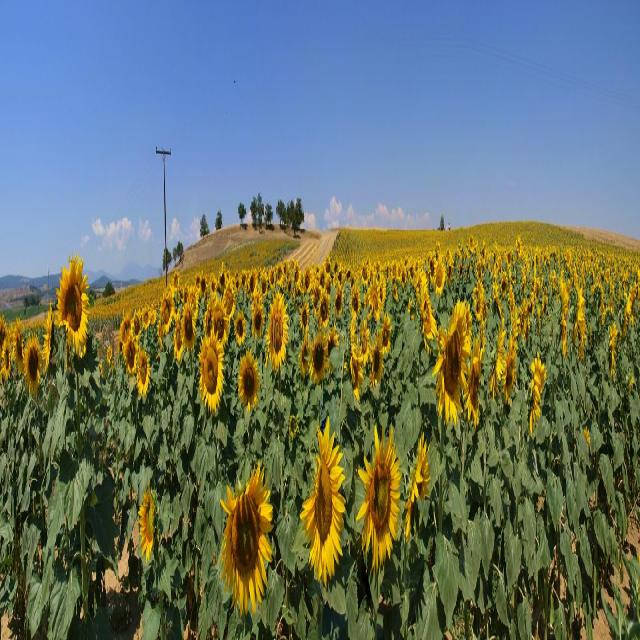sunflower: (216, 437, 280, 621), (306, 413, 352, 600), (355, 427, 403, 576), (431, 294, 472, 435), (52, 257, 99, 350), (198, 322, 228, 415), (266, 289, 292, 386), (234, 338, 264, 421), (306, 320, 334, 394), (528, 346, 546, 444), (134, 491, 156, 560), (131, 337, 155, 400), (156, 280, 178, 340), (216, 274, 240, 329), (22, 338, 44, 393), (502, 334, 518, 409)
